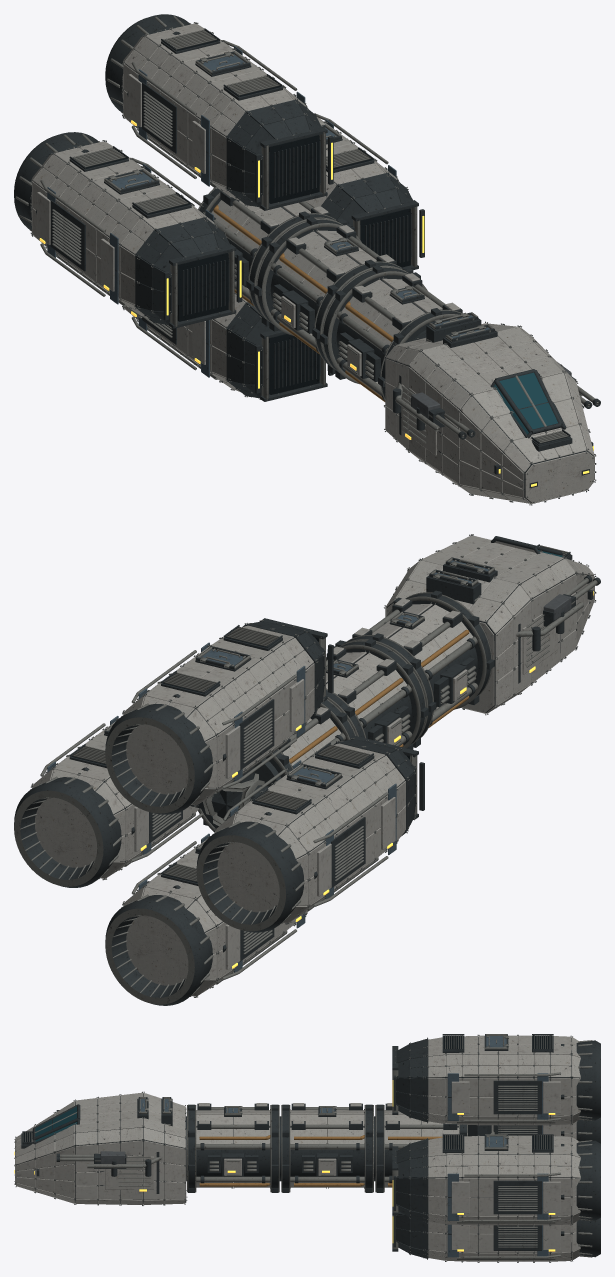
3 renders of one model, top to bottom at view 1: azimuth 30°, elevation 25°; view 2: azimuth 150°, elevation 25°; view 3: azimuth 270°, elevation 25°, orthographic. The views are drawn at different scales.
Visible parts, largest first — view 1: dark-structure, pale-steel-0, machined-alloy, pale-steel-2, pale-steel-1, recess-black, blue-grey-1, canopy-glass, service-ochre, amber-lamp; view 2: pale-steel-0, dark-structure, machined-alloy, pale-steel-2, pale-steel-1, blue-grey-1, service-ochre; view 3: dark-structure, pale-steel-0, machined-alloy, pale-steel-2, pale-steel-1, blue-grey-1, service-ochre, recess-black, profiled-drive, canopy-glass, command-pressure-shell, amber-lamp.
Boxes of the visible parts, bbox=[...] form: dark-structure: bbox=[14, 14, 600, 504]; pale-steel-0: bbox=[31, 23, 594, 502]; machined-alloy: bbox=[15, 16, 598, 505]; pale-steel-2: bbox=[37, 74, 594, 503]; pale-steel-1: bbox=[222, 191, 594, 503]; recess-black: bbox=[85, 39, 568, 443]; blue-grey-1: bbox=[47, 46, 489, 377]; canopy-glass: bbox=[493, 372, 560, 434]; service-ochre: bbox=[213, 204, 393, 401]; amber-lamp: bbox=[39, 120, 593, 486]; pale-steel-0: bbox=[32, 541, 594, 996]; dark-structure: bbox=[14, 535, 600, 1005]; machined-alloy: bbox=[14, 534, 597, 1004]; pale-steel-2: bbox=[134, 535, 594, 969]; pale-steel-1: bbox=[287, 535, 594, 744]; blue-grey-1: bbox=[47, 560, 489, 972]; service-ochre: bbox=[289, 629, 469, 763]; dark-structure: bbox=[15, 1034, 600, 1262]; pale-steel-0: bbox=[15, 1035, 580, 1261]; machined-alloy: bbox=[14, 1034, 592, 1262]; pale-steel-2: bbox=[15, 1081, 560, 1249]; pale-steel-1: bbox=[15, 1093, 455, 1204]; blue-grey-1: bbox=[140, 1036, 548, 1257]; service-ochre: bbox=[199, 1135, 442, 1186]; recess-black: bbox=[23, 1035, 552, 1149]; profiled-drive: bbox=[429, 1037, 579, 1260]; canopy-glass: bbox=[35, 1106, 77, 1141]; command-pressure-shell: bbox=[16, 1093, 185, 1203]; amber-lamp: bbox=[14, 1080, 555, 1251].
Bounding box in the file's own units: 25.02 × 25.02 × 62.31.
Materials: 12 (10 with a texture image).
